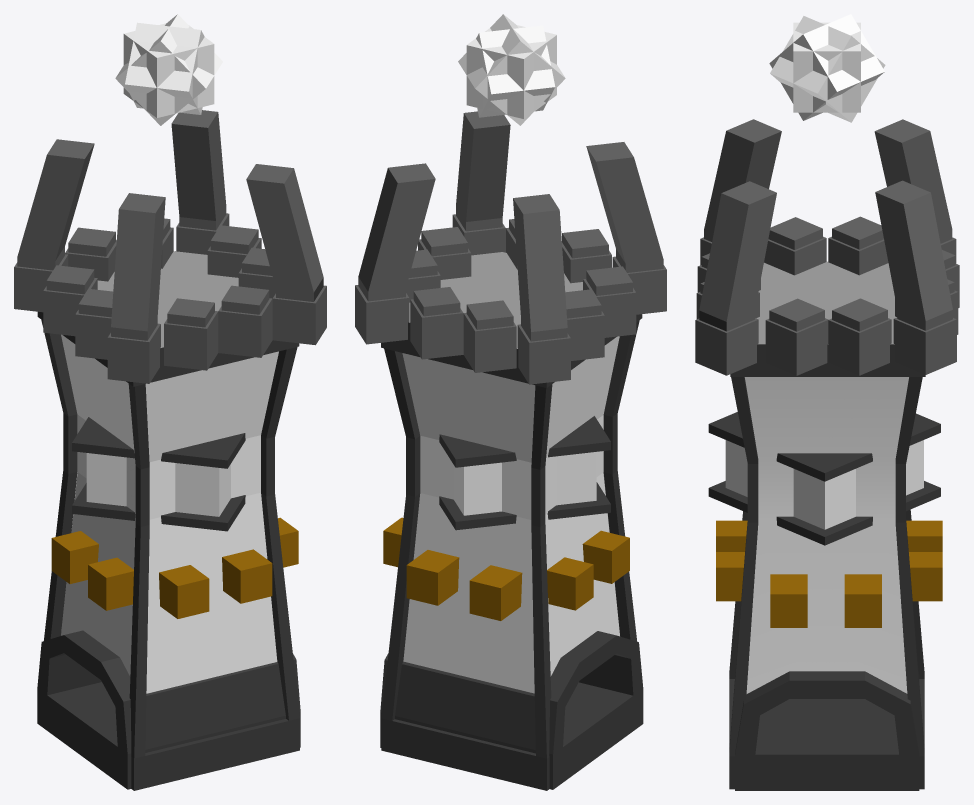
Rendered from Magic_Tower.fbx.
3 renders of one model, left to right at view 1: azimuth 30°, elevation 25°; view 2: azimuth 150°, elevation 25°; view 3: azimuth 270°, elevation 25°, orthographic. The views are drawn at different scales.
Visible parts, largest first — view 1: magic, Crystal; view 2: magic, Crystal; view 3: magic, Crystal.
Boxes of the visible parts, x1,y1,x2,y2 form: magic: (14,110,326,790); Crystal: (115,14,222,125); magic: (355,111,666,790); Crystal: (458,14,565,125); magic: (695,119,959,790); Crystal: (769,14,885,122).
Bounding box in the file's own units: 0.9126 × 2.83 × 0.937.
